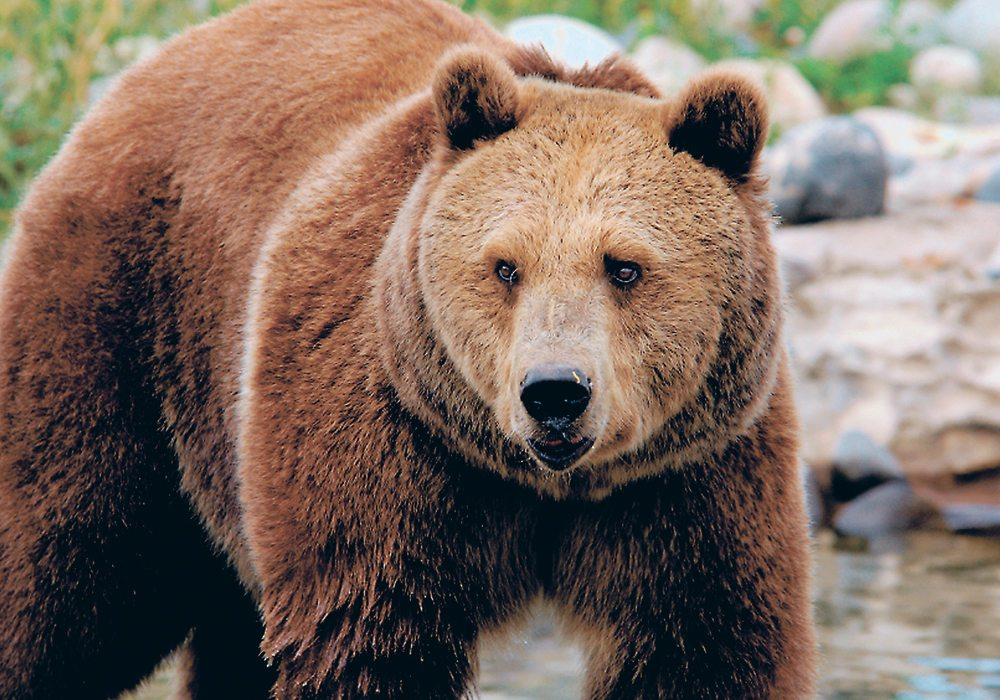bear: (411, 40, 783, 484)
